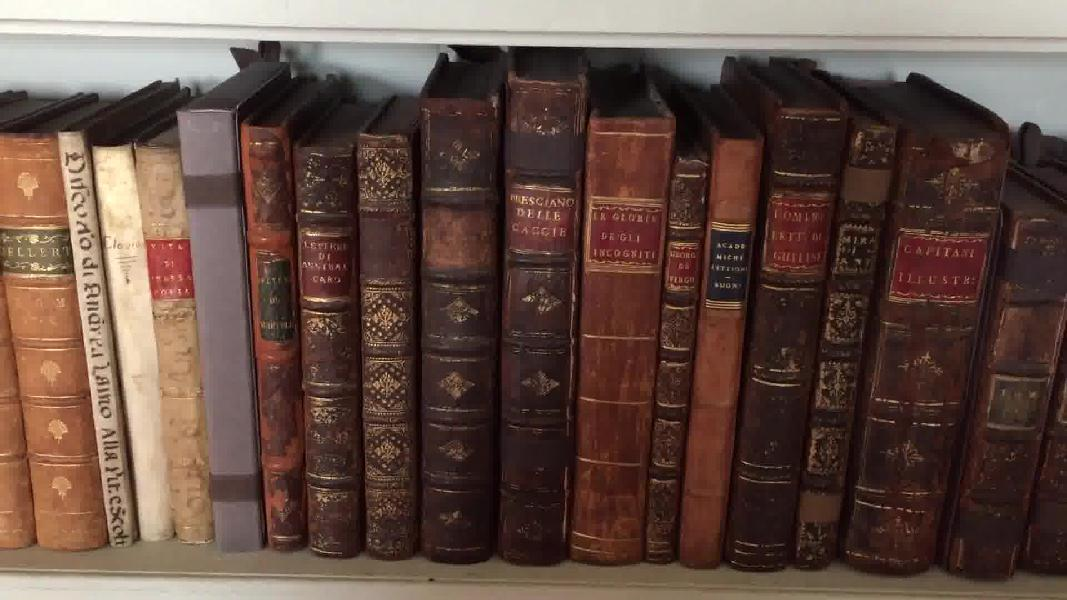Aa6-24: (54, 123, 133, 548)
Aa6-25: (85, 129, 173, 539)
Aa6-26: (121, 139, 206, 557)
Aa6-27: (166, 107, 271, 546)
Aa6-28: (236, 111, 304, 559)
Aa6-29: (292, 138, 366, 559)
Aa6-30: (355, 127, 425, 570)
Aa6-31: (411, 102, 496, 563)
Aa6-32: (501, 73, 594, 563)
Aa6-33: (577, 104, 659, 582)
Aa6-34: (644, 157, 700, 569)
Aa6-35: (682, 121, 769, 590)
Aa6-36: (725, 102, 842, 586)
Aa6-37: (788, 121, 896, 563)
Aa6-38: (843, 105, 1001, 573)
